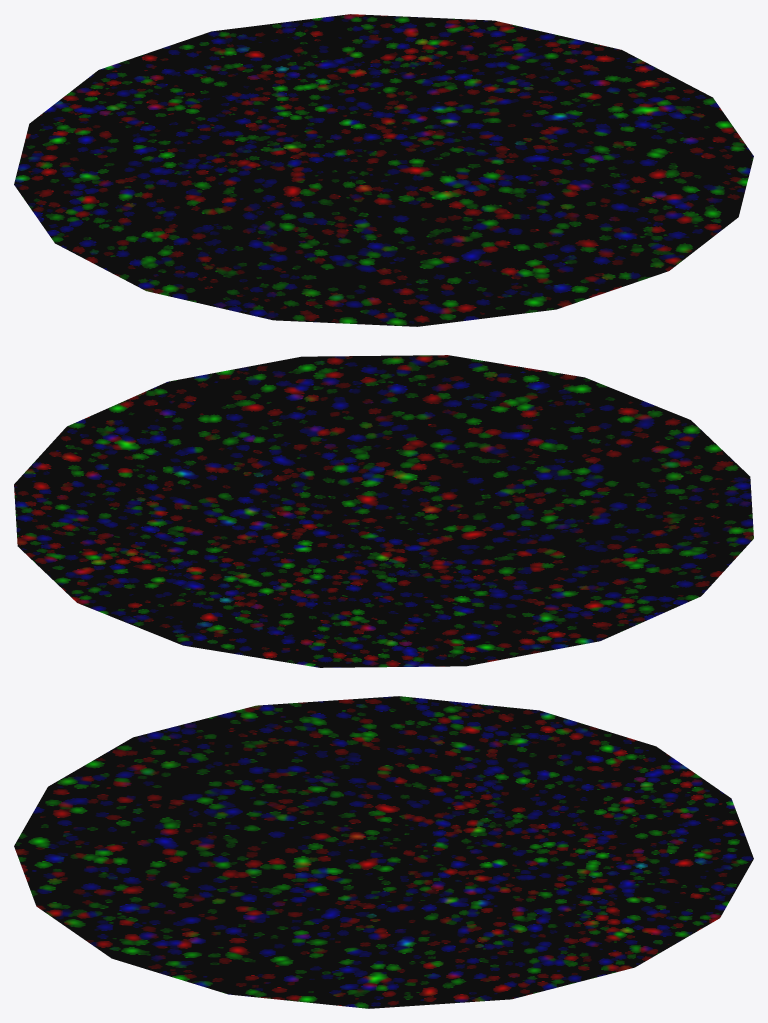
File: floor-lights-1.glb
3 views of the same model, one above another, from view 1: azimuth 30°, elevation 25°; view 2: azimuth 150°, elevation 25°; view 3: azimuth 270°, elevation 25° (orthographic).
Parts seen in each view (by area): view 1: skating_rink-lights; view 2: skating_rink-lights; view 3: skating_rink-lights.
Part boxes in pixels (x1,y1,x2,y2): skating_rink-lights: (14, 14, 753, 326); skating_rink-lights: (14, 355, 753, 667); skating_rink-lights: (14, 696, 753, 1008).
Bounding box in the file's own units: 2.49 × 0 × 2.49.
Materials: 1 (1 with a texture image).
